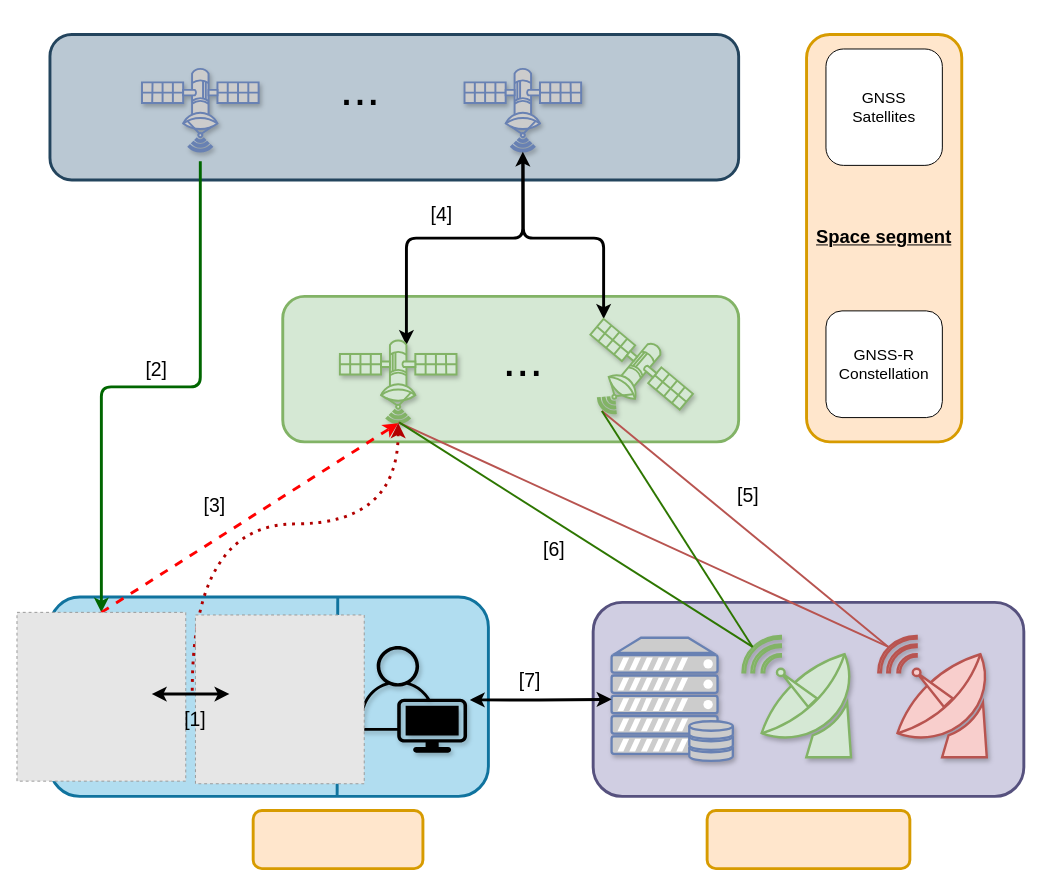
Image size: 1042x887. Some labels were removed from this diagram. Grey dashed boxes stand in for pictures. Here are the shapes that lost their labels. From the top down, the centre of each, then its label:
At [337,839]: "User segment".
At [808,839]: "Ground segment".
